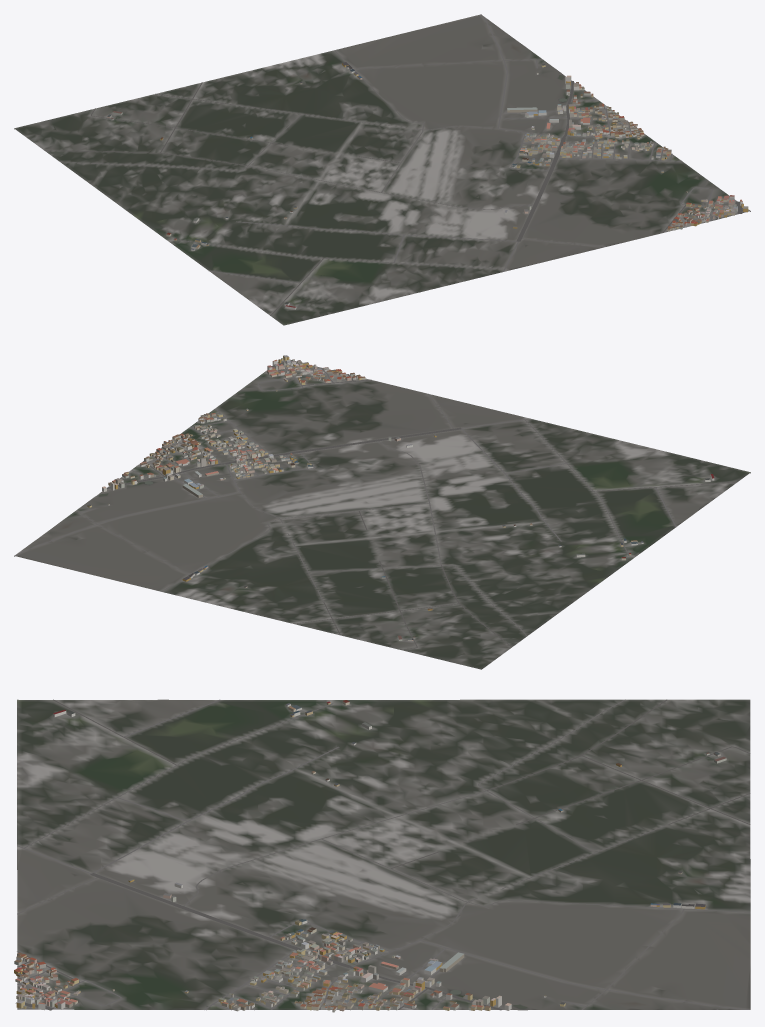
The picture shows the model from 3 angles, top to bottom: view 1: azimuth 30°, elevation 25°; view 2: azimuth 150°, elevation 25°; view 3: azimuth 270°, elevation 25°; orthographic projection. The views are drawn at different scales.
Visible parts, largest first — view 1: ground, buildings, roads; view 2: ground, buildings, roads; view 3: ground, buildings, roads.
Boxes of the visible parts, x1,y1,x2,y2 form: ground: (14,14,750,325); buildings: (107,62,748,309); roads: (44,14,742,315); ground: (14,359,750,669); buildings: (87,355,714,640); roads: (14,360,737,649); ground: (17,699,750,1010); buildings: (14,700,726,1012); roads: (15,699,750,1010).
Bounding box in the file's own units: 1415 × 25.57 × 1409.
